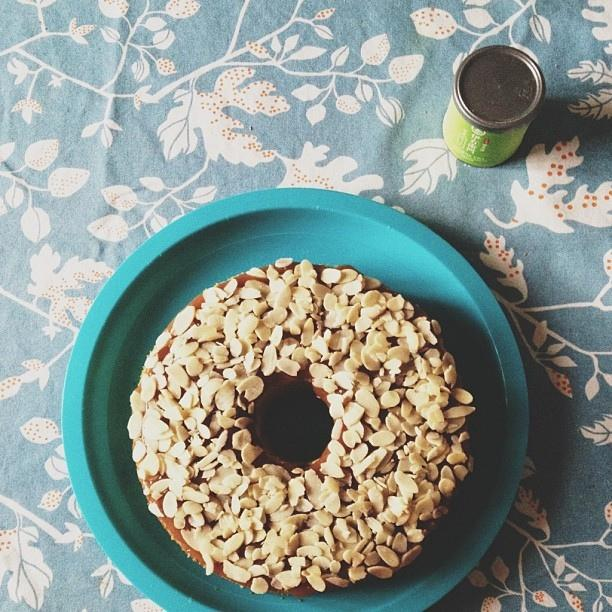almond: (304, 468, 324, 510), (331, 273, 365, 297), (266, 278, 292, 309), (236, 375, 264, 402), (355, 388, 380, 418), (394, 470, 419, 500), (375, 441, 398, 473), (223, 560, 252, 584), (138, 445, 160, 476), (165, 363, 190, 388), (361, 290, 388, 313), (214, 380, 234, 411), (343, 401, 365, 429), (262, 464, 291, 485), (262, 306, 288, 329), (328, 330, 356, 351), (376, 544, 400, 568), (218, 512, 240, 538), (428, 404, 448, 432), (360, 344, 380, 372), (280, 312, 308, 332), (237, 314, 260, 338), (195, 307, 225, 325), (240, 443, 264, 465), (127, 410, 144, 441), (245, 280, 271, 300), (261, 344, 277, 376), (368, 486, 384, 518), (355, 452, 376, 476), (264, 492, 286, 514), (180, 528, 200, 552), (366, 331, 392, 349), (386, 412, 404, 438), (367, 447, 388, 469), (232, 428, 252, 451), (140, 408, 160, 431), (275, 570, 302, 587), (276, 357, 300, 376), (332, 518, 351, 542), (346, 496, 364, 521), (386, 346, 411, 364), (144, 416, 169, 434), (162, 490, 178, 518), (369, 430, 397, 446), (319, 462, 345, 479), (197, 448, 218, 469), (377, 391, 401, 409), (270, 504, 294, 522), (291, 346, 308, 371), (411, 352, 426, 380), (141, 377, 157, 403), (254, 319, 272, 342), (208, 477, 232, 494), (442, 406, 476, 418), (405, 389, 429, 406), (350, 339, 365, 366), (414, 480, 434, 500), (307, 571, 326, 592), (444, 416, 466, 434), (149, 478, 173, 494), (297, 545, 324, 559), (324, 492, 341, 514), (312, 510, 334, 527), (264, 476, 286, 493), (202, 378, 225, 394), (186, 380, 199, 408), (314, 542, 333, 561), (348, 566, 368, 584), (232, 288, 262, 300), (288, 301, 306, 321), (416, 400, 440, 415), (236, 526, 254, 546), (426, 445, 447, 462), (282, 533, 298, 555), (320, 268, 342, 284), (392, 532, 408, 554), (162, 407, 189, 420), (415, 382, 440, 396), (387, 294, 406, 312), (250, 577, 269, 595), (186, 356, 203, 376), (356, 518, 372, 539), (200, 388, 215, 410), (238, 300, 260, 315), (355, 315, 373, 333), (336, 305, 353, 324), (333, 470, 352, 487), (167, 376, 181, 399), (214, 429, 228, 452), (312, 555, 332, 571), (166, 442, 186, 458), (329, 399, 344, 420), (174, 506, 187, 530), (280, 524, 298, 541), (170, 334, 187, 352), (207, 315, 226, 331), (414, 498, 433, 514), (367, 566, 392, 578), (215, 466, 236, 480), (202, 288, 220, 304), (345, 515, 360, 534), (222, 474, 242, 488), (164, 458, 178, 478), (243, 348, 255, 371), (210, 546, 227, 562), (400, 421, 417, 437), (452, 465, 468, 482), (200, 303, 230, 312), (396, 508, 411, 526), (178, 392, 193, 410), (294, 498, 313, 512), (324, 526, 335, 550), (446, 452, 468, 464), (426, 462, 439, 482), (305, 347, 321, 363), (196, 423, 212, 439), (333, 357, 348, 374), (368, 344, 383, 361), (153, 373, 168, 390), (181, 342, 199, 356), (323, 293, 337, 311), (252, 302, 270, 316), (280, 343, 298, 357), (244, 542, 258, 560), (380, 458, 396, 473), (246, 358, 261, 374), (272, 536, 288, 551), (233, 558, 253, 570), (291, 286, 311, 298), (230, 338, 242, 358), (220, 449, 236, 464), (282, 336, 302, 348), (325, 476, 339, 493), (215, 494, 232, 508), (347, 429, 362, 444), (346, 488, 362, 502), (383, 508, 397, 524), (309, 524, 325, 538), (268, 562, 285, 575), (423, 348, 440, 361), (199, 341, 217, 353), (239, 498, 257, 510), (344, 358, 359, 372), (322, 380, 337, 394), (199, 542, 214, 556), (422, 331, 437, 345), (399, 320, 418, 331), (402, 373, 418, 386), (231, 493, 240, 515), (342, 390, 353, 408), (158, 438, 172, 452), (146, 438, 159, 453), (362, 542, 374, 558), (224, 294, 240, 306), (362, 425, 373, 442), (362, 478, 376, 491), (434, 395, 448, 408), (203, 502, 218, 514), (224, 333, 236, 348), (371, 318, 386, 330), (288, 556, 306, 566), (357, 383, 373, 394), (341, 338, 351, 355), (250, 518, 264, 530), (328, 452, 340, 466), (432, 491, 442, 507), (340, 489, 352, 502), (198, 483, 210, 496), (414, 380, 428, 391), (232, 364, 246, 375), (330, 560, 341, 574), (153, 362, 165, 374), (312, 296, 323, 309), (338, 292, 348, 306), (380, 310, 392, 321), (187, 516, 198, 528), (161, 353, 172, 365), (282, 268, 293, 280), (295, 514, 308, 524), (213, 522, 222, 536), (214, 354, 228, 363), (241, 465, 251, 477), (354, 331, 366, 340), (246, 369, 258, 378), (137, 468, 146, 480), (468, 454, 474, 472), (386, 534, 395, 546), (229, 552, 239, 562), (396, 450, 406, 460), (340, 320, 350, 330), (262, 564, 270, 576), (187, 466, 195, 478), (189, 482, 200, 490), (198, 358, 212, 364), (386, 374, 395, 383), (376, 288, 388, 294), (214, 338, 225, 344), (397, 486, 402, 497), (422, 528, 428, 536), (233, 399, 238, 408), (343, 454, 350, 460), (186, 353, 197, 356), (279, 274, 284, 278)
